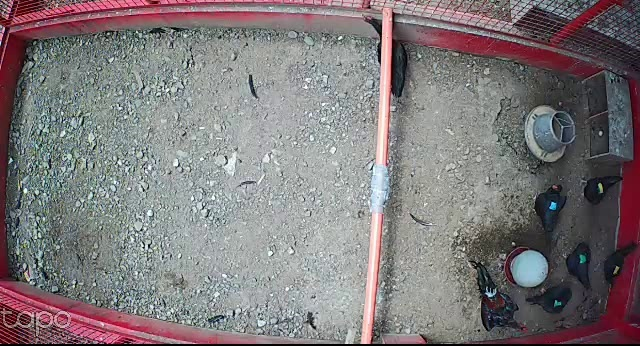Chicken: (533, 182, 569, 255), (594, 240, 639, 296), (575, 170, 629, 209), (522, 282, 576, 317), (561, 244, 595, 294)
Drinker: (503, 247, 550, 288)
Feeder: (525, 105, 575, 164)
Rooster: (467, 258, 529, 335)
Saddle_Color_Blue: (549, 201, 557, 210)
Saddle_Color_Yellow: (611, 266, 621, 277)
Saddle_Color_YellowGreen: (595, 180, 604, 194)
